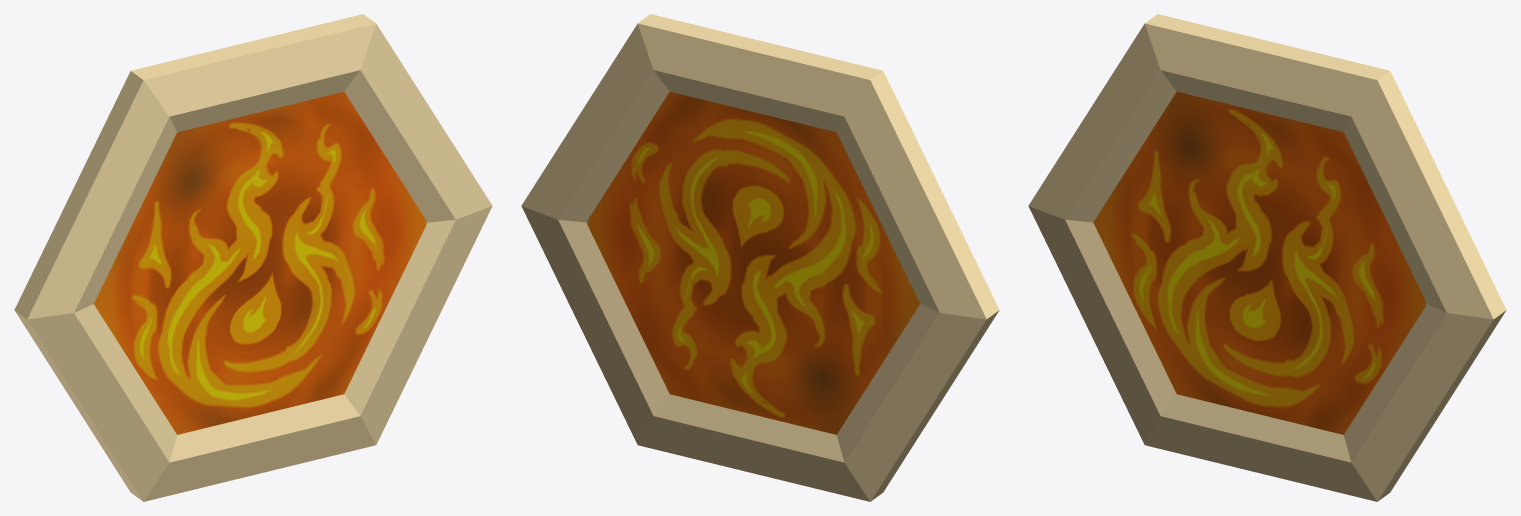
Rendered from FireMedallion.fbx.
The picture shows the model from 3 angles, left to right: view 1: azimuth 30°, elevation 25°; view 2: azimuth 150°, elevation 25°; view 3: azimuth 330°, elevation 25°; orthographic projection.
Visible parts, largest first — view 1: pCylinder1; view 2: pCylinder1; view 3: pCylinder1.
Boxes of the visible parts, x1=… form: pCylinder1: x1=14, y1=14, x2=492, y2=501; pCylinder1: x1=521, y1=14, x2=999, y2=501; pCylinder1: x1=1028, y1=14, x2=1506, y2=501.
Size of the model in its own units: 2.79 by 2.41 by 0.2383.
